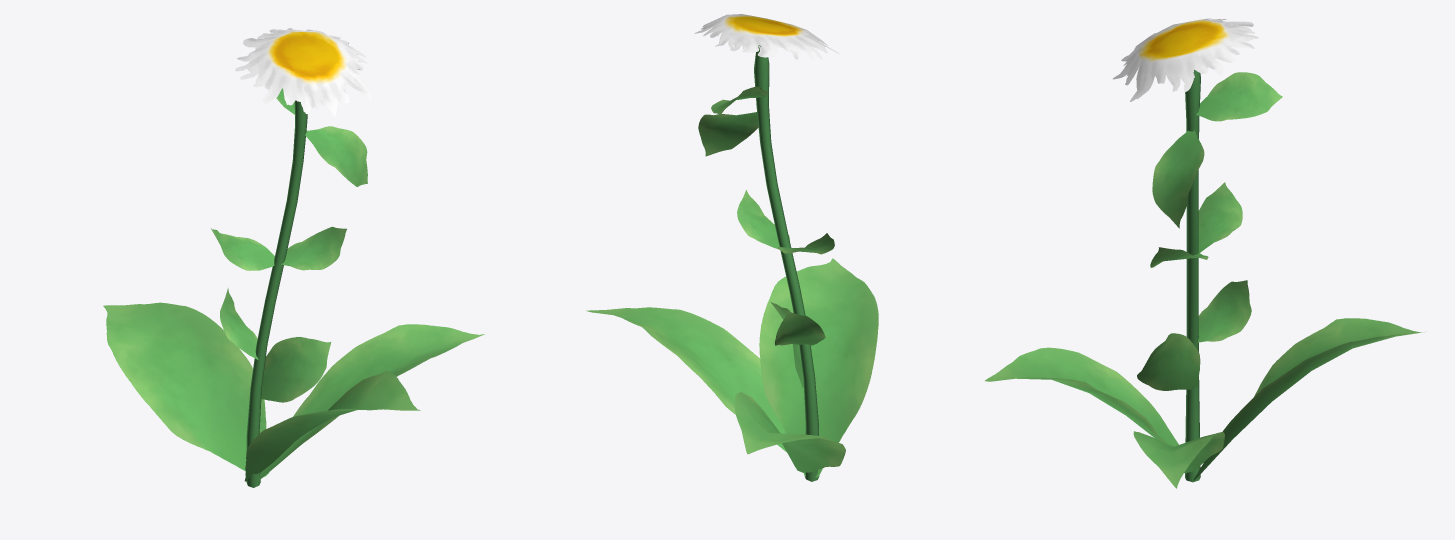
The model's file is SM_plant_flowers_03.fbx.
3 views of the same model, side by side, from view 1: azimuth 30°, elevation 25°; view 2: azimuth 150°, elevation 25°; view 3: azimuth 270°, elevation 25° (orthographic). The views are drawn at different scales.
Parts seen in each view (by area): view 1: Object32297; view 2: Object32297; view 3: Object32297.
Part boxes in pixels (<box>): Object32297: <box>103,28,484,487</box>; Object32297: <box>586,14,878,481</box>; Object32297: <box>985,18,1426,488</box>.
Size of the model in its own units: 27.38 by 31.17 by 27.28.
